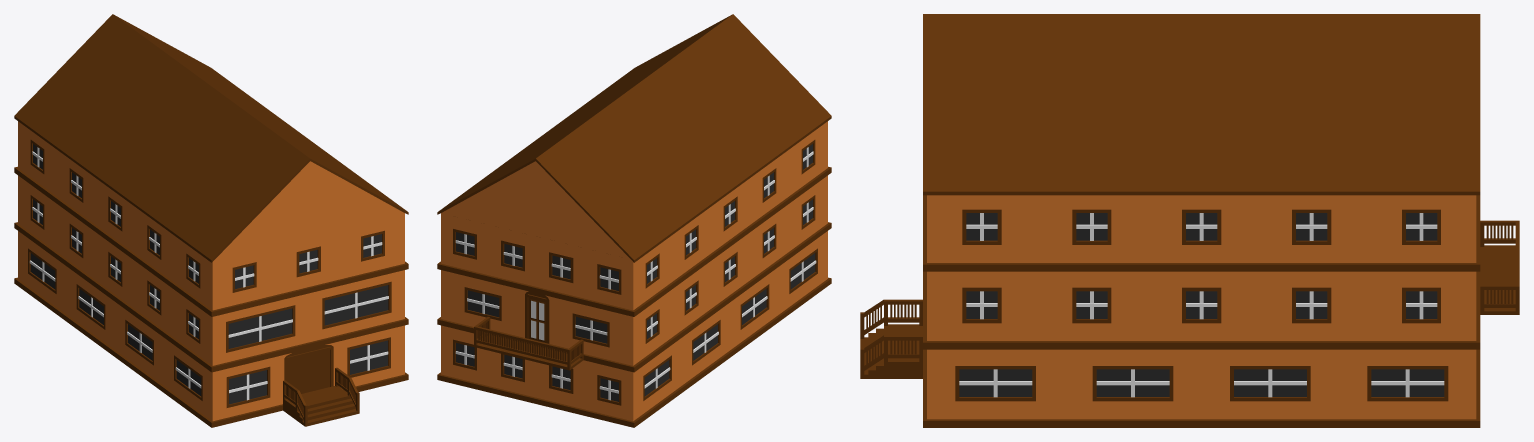
File: herenhhuis3.fbx
3 renders of one model, left to right at view 1: azimuth 30°, elevation 25°; view 2: azimuth 150°, elevation 25°; view 3: azimuth 270°, elevation 25°, orthographic. The views are drawn at different scales.
Parts seen in each view (by area): view 1: building_001; view 2: building_001; view 3: building_001.
Boxes of the visible parts, left/top/right/bottom form: building_001: left=14, top=14, right=408, bottom=427; building_001: left=437, top=14, right=831, bottom=427; building_001: left=860, top=14, right=1519, bottom=427.
Bounding box in the file's own units: 818 × 974 × 1681.
